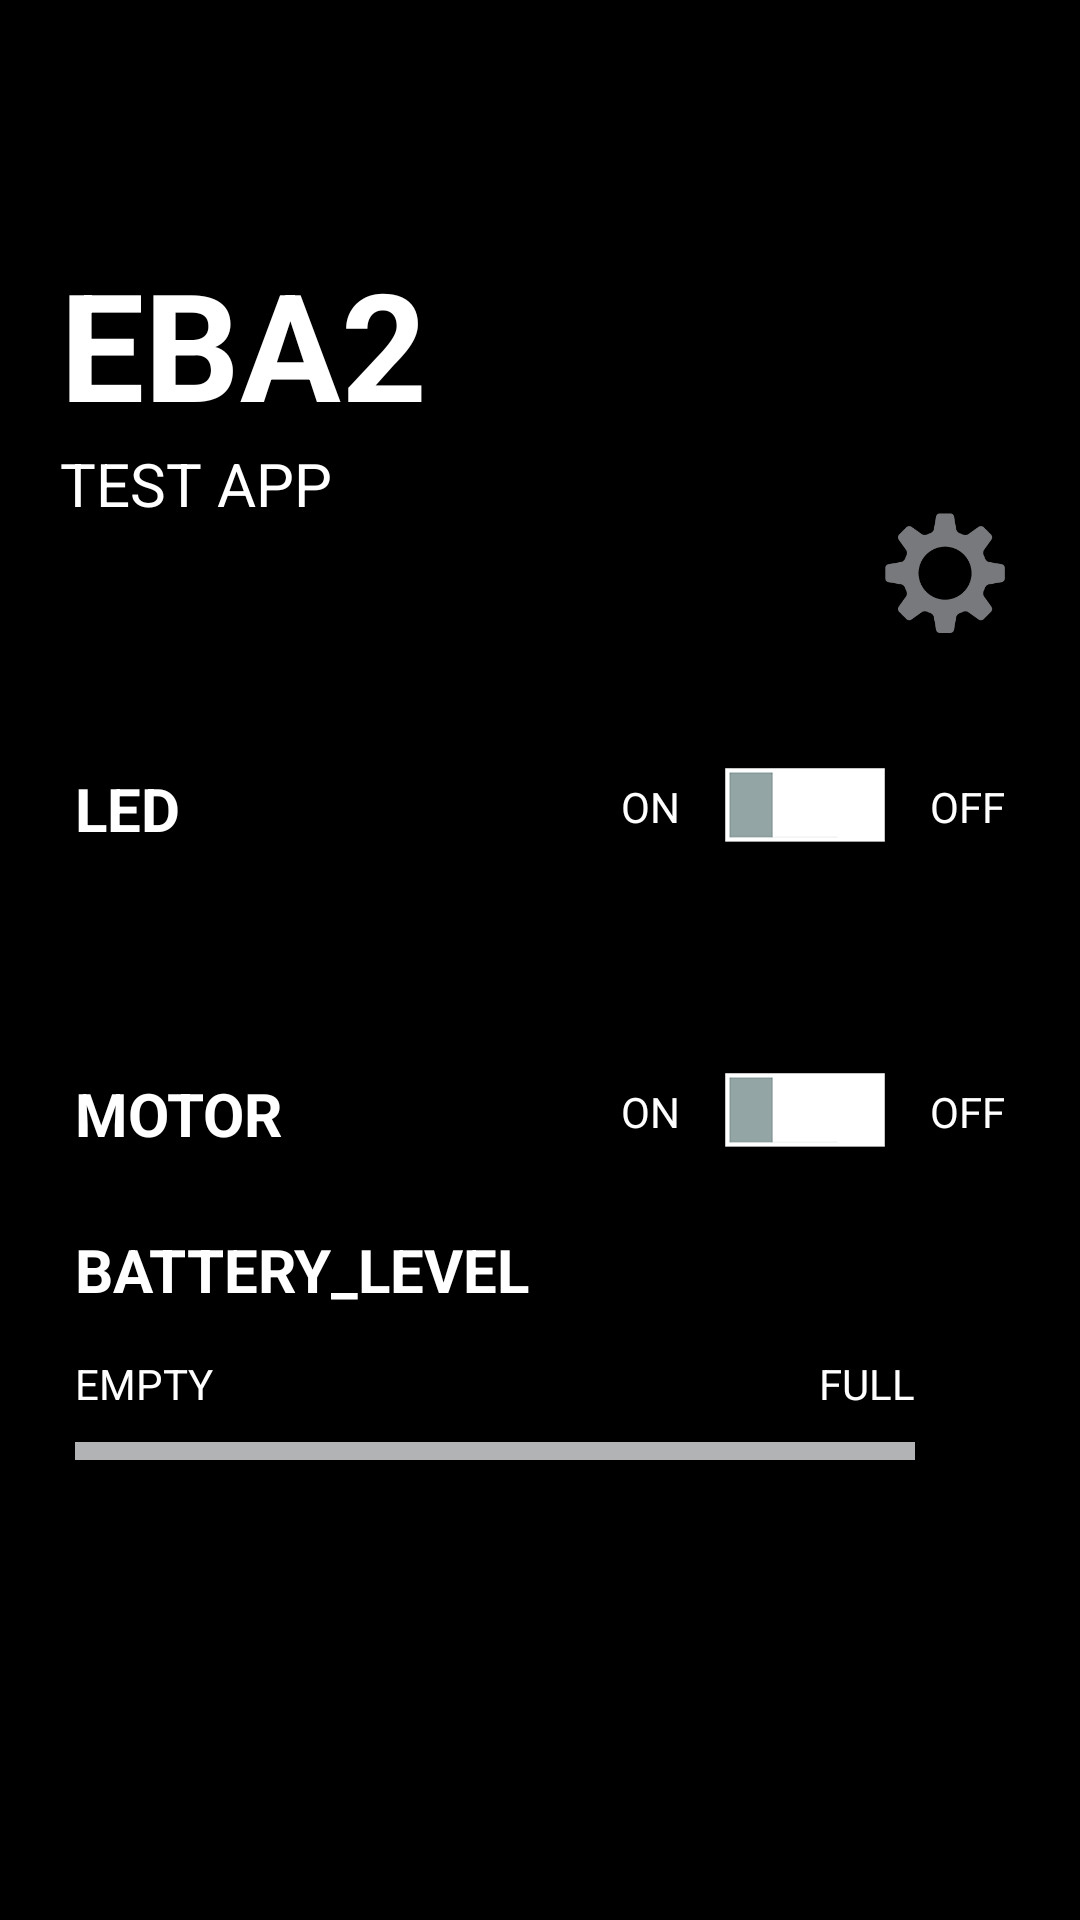

Named icons in this screenshot (1080 x 1920) and their bounding boxes, box=[x1, y1, x2, y2]:
switch: box=[725, 768, 885, 842], box=[725, 1073, 885, 1147]
